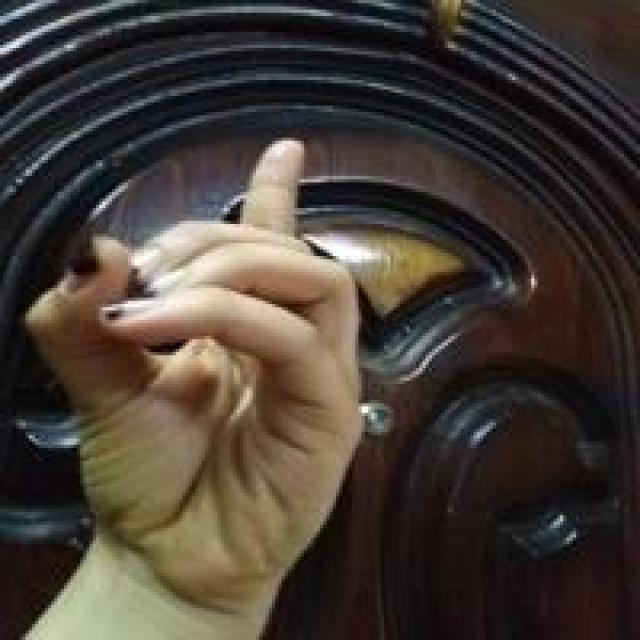D: (21, 133, 376, 629)
